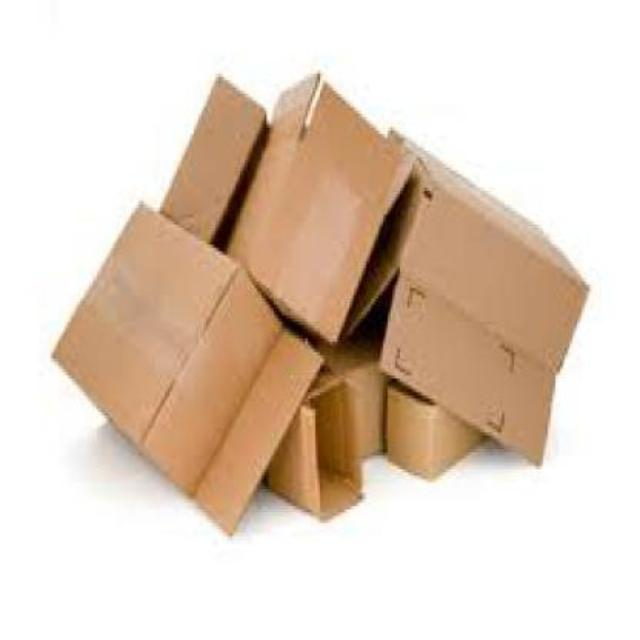cardboard_box: (60, 212, 314, 532), (374, 149, 568, 461), (242, 84, 382, 333), (160, 80, 248, 240), (279, 380, 363, 516), (373, 384, 497, 474)
